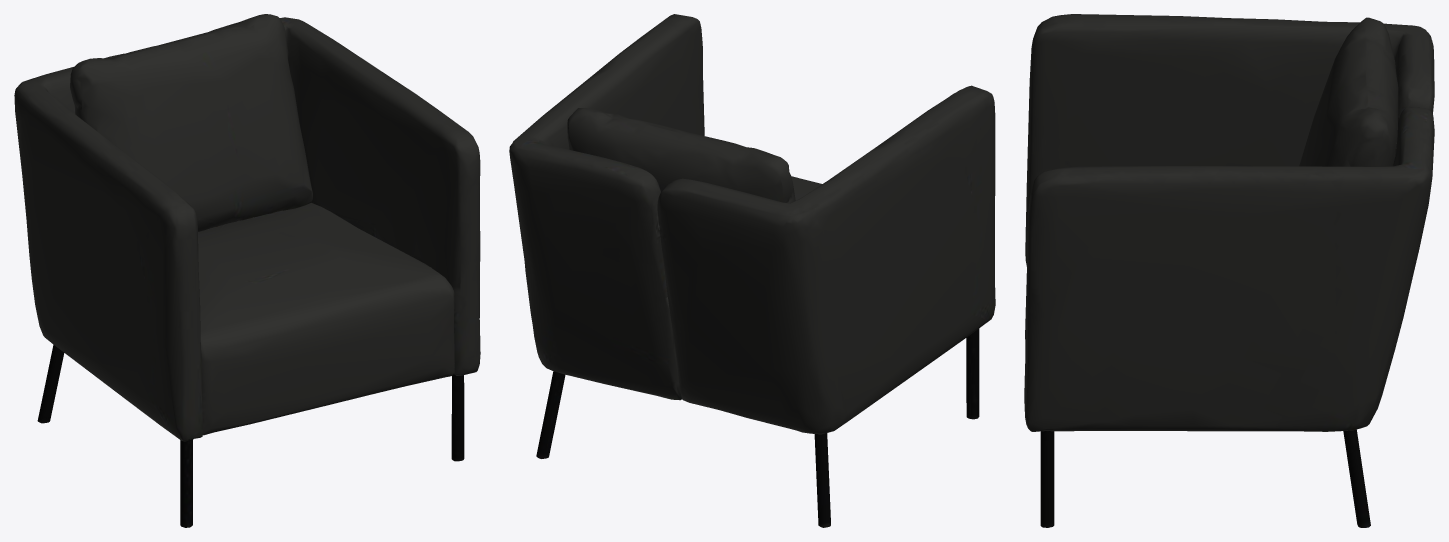
Rendered from ekeroe_armchair_bomstad_black.glb.
3 renders of one model, left to right at view 1: azimuth 30°, elevation 25°; view 2: azimuth 150°, elevation 25°; view 3: azimuth 270°, elevation 25°, orthographic. The views are drawn at different scales.
Parts seen in each view (by area): view 1: ProcessedMeshNode.001; view 2: ProcessedMeshNode.001; view 3: ProcessedMeshNode.001.
Part boxes in pixels (left/top/right/bottom): ProcessedMeshNode.001: left=14, top=14, right=480, bottom=527; ProcessedMeshNode.001: left=509, top=14, right=995, bottom=527; ProcessedMeshNode.001: left=1024, top=14, right=1434, bottom=527.
Size of the model in its own units: 0.7301 by 0.7771 by 0.7483.
Materials: 2 (2 with a texture image).
